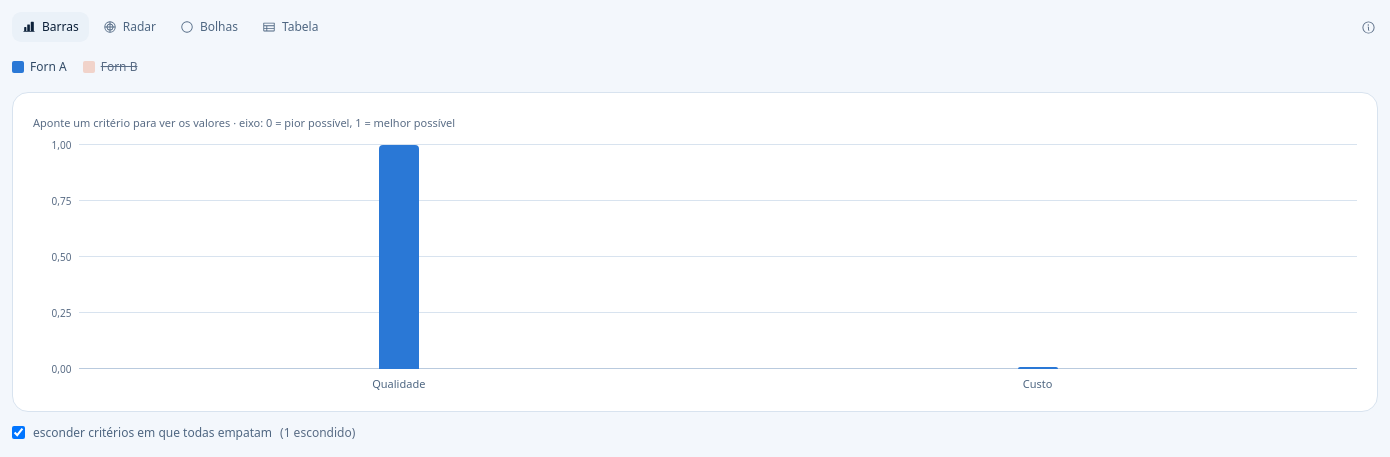
selecao de alternativas › avisa quando nenhuma alternativa esta marcada
This screenshot has width=1390, height=457.
Step 1. Click the checkbox labelled "Forn A" → (39, 67), box [12, 58, 67, 76]
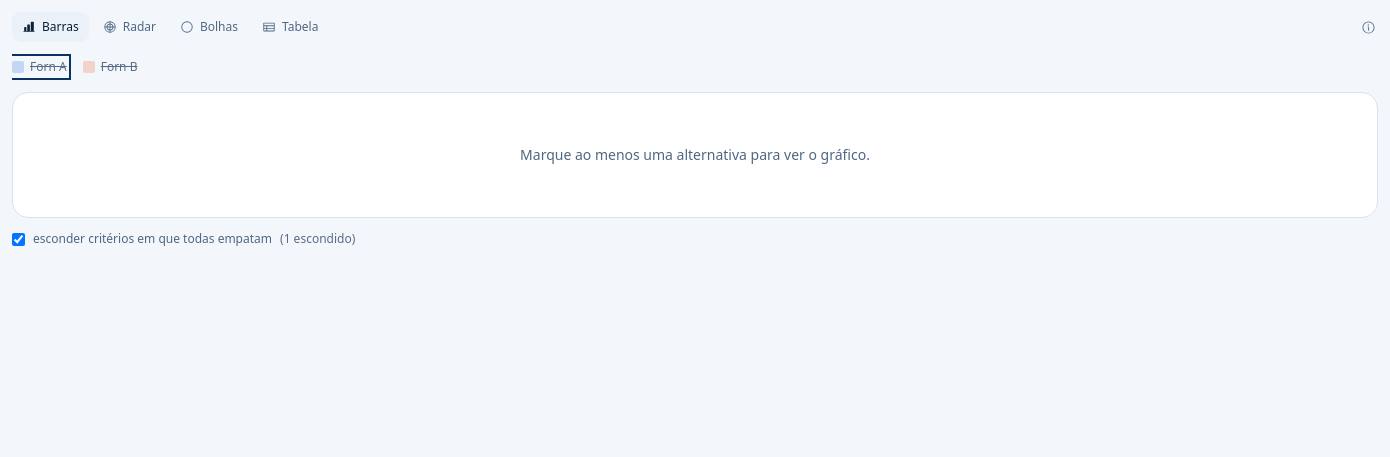
Expected: the text "Marque ao menos uma alternativa para ver o gráfico." is shown, [520, 145, 870, 164]
